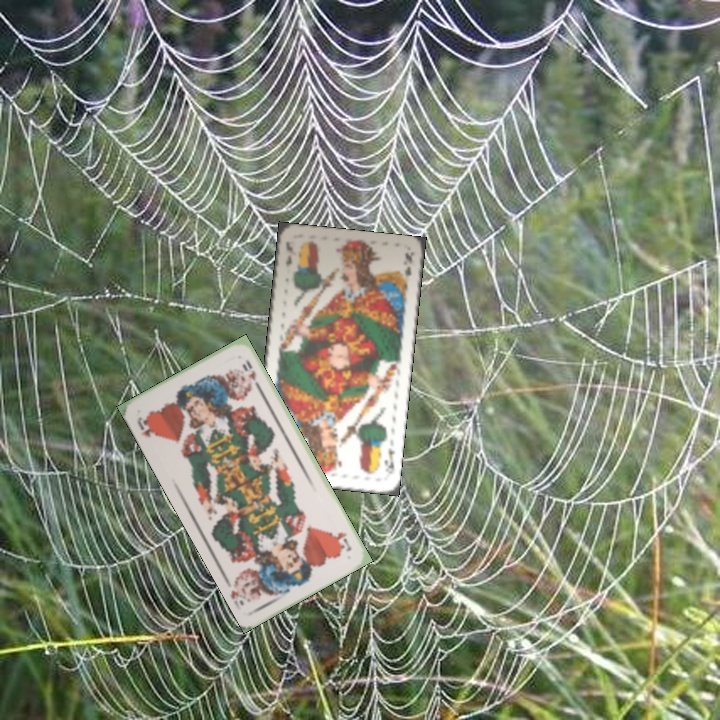EK: (380, 444, 397, 477), (281, 237, 295, 270)
HO: (133, 412, 159, 440), (331, 528, 354, 554)
